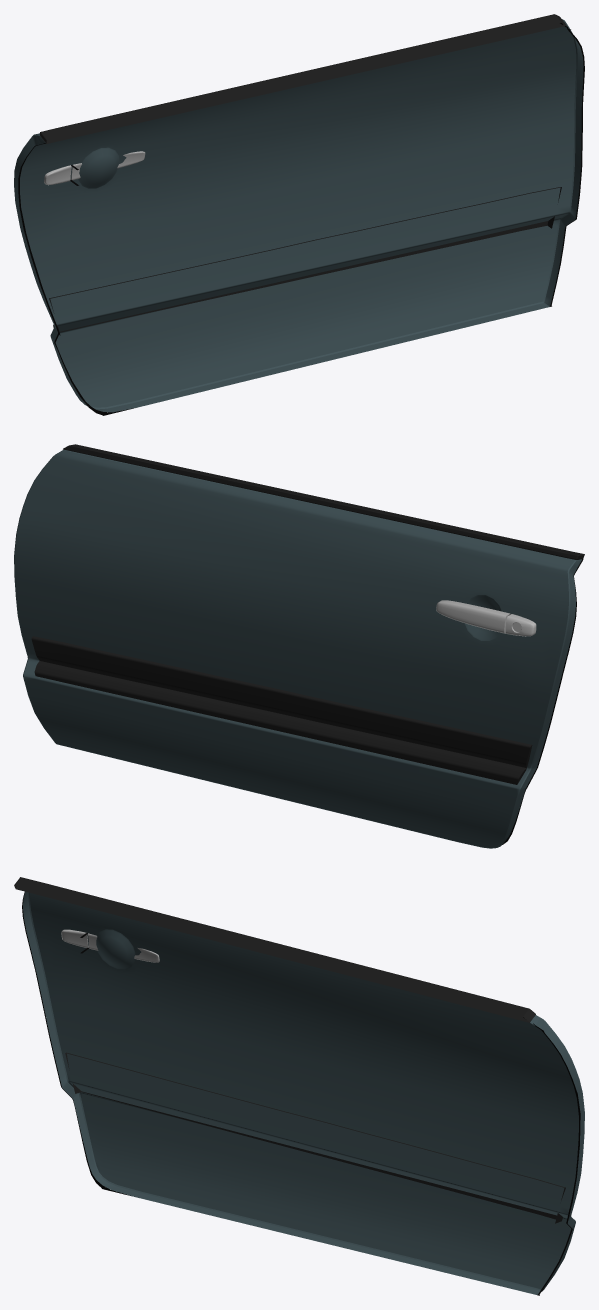
The picture shows the model from 3 angles, top to bottom: view 1: azimuth 30°, elevation 25°; view 2: azimuth 150°, elevation 25°; view 3: azimuth 330°, elevation 25°; orthographic projection. The views are drawn at different scales.
Visible parts, largest first — view 1: P222_15_261B_L_1_DaS_P222_15_261B_L, P222_15_261B_L_P222_15_261B_L_3_D, P222_15_261B_L_1_DaS_P222_15_261B_L_E, P222_15_261B_L_P222_15_261B_L_2_D, P222_15_261B_L_P222_15_261B_L_4_DaS; view 2: P222_15_261B_L_1_DaS_P222_15_261B_L, P222_15_261B_L_P222_15_261B_L_3_D, P222_15_261B_L_1_DaS_P222_15_261B_L_E, P222_15_261B_L_P222_15_261B_L_4_DaS; view 3: P222_15_261B_L_1_DaS_P222_15_261B_L, P222_15_261B_L_P222_15_261B_L_3_D, P222_15_261B_L_1_DaS_P222_15_261B_L_E, P222_15_261B_L_P222_15_261B_L_2_D, P222_15_261B_L_P222_15_261B_L_4_DaS.
Boxes of the visible parts, box(x1,y1,x2,y2) form: P222_15_261B_L_1_DaS_P222_15_261B_L: box(14, 19, 583, 412); P222_15_261B_L_P222_15_261B_L_3_D: box(40, 14, 566, 335); P222_15_261B_L_1_DaS_P222_15_261B_L_E: box(33, 35, 577, 409); P222_15_261B_L_P222_15_261B_L_2_D: box(18, 23, 584, 415); P222_15_261B_L_P222_15_261B_L_4_DaS: box(44, 151, 145, 185); P222_15_261B_L_1_DaS_P222_15_261B_L: box(14, 450, 581, 847); P222_15_261B_L_P222_15_261B_L_3_D: box(31, 444, 584, 784); P222_15_261B_L_1_DaS_P222_15_261B_L_E: box(14, 449, 576, 848); P222_15_261B_L_P222_15_261B_L_4_DaS: box(436, 600, 536, 636); P222_15_261B_L_1_DaS_P222_15_261B_L: box(23, 891, 584, 1294); P222_15_261B_L_P222_15_261B_L_3_D: box(14, 877, 565, 1223); P222_15_261B_L_1_DaS_P222_15_261B_L_E: box(28, 892, 575, 1290); P222_15_261B_L_P222_15_261B_L_2_D: box(22, 891, 580, 1295); P222_15_261B_L_P222_15_261B_L_4_DaS: box(61, 929, 159, 962).
Size of the model in its own units: 142 by 73.82 by 13.85.
